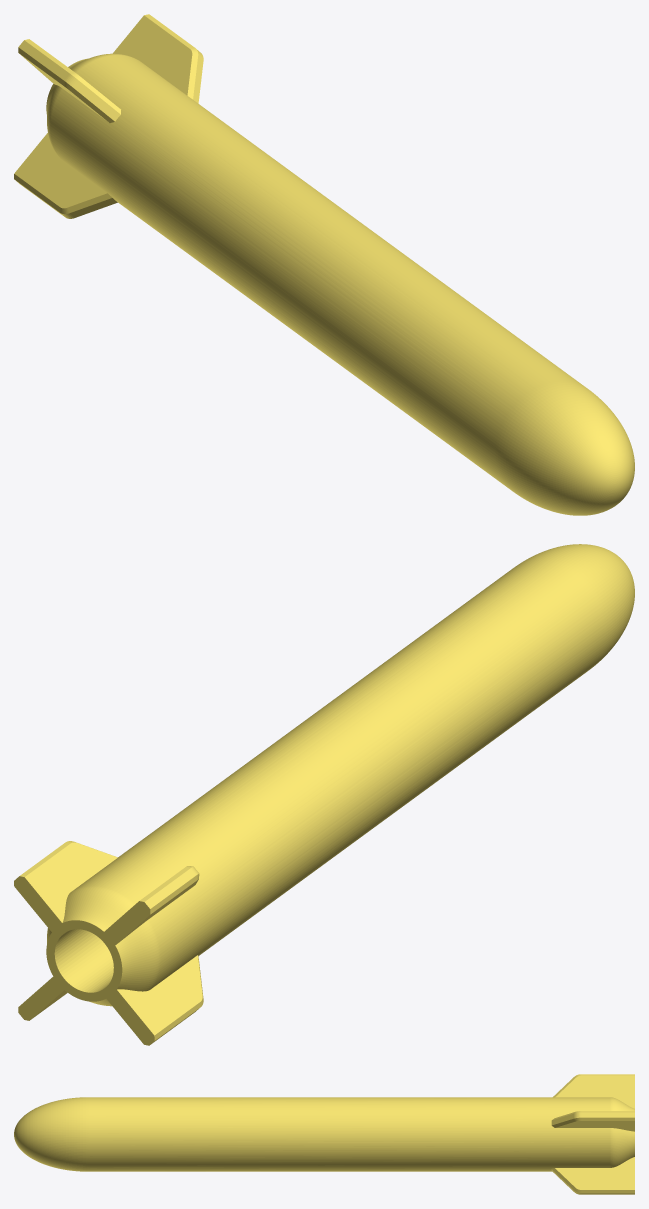
The model's file is torps.glb.
3 renders of one model, top to bottom at view 1: azimuth 30°, elevation 25°; view 2: azimuth 150°, elevation 25°; view 3: azimuth 270°, elevation 25°, orthographic. The views are drawn at different scales.
Parts seen in each view (by area): view 1: tp__Torpedo_D18_L; view 2: tp__Torpedo_D18_L; view 3: tp__Torpedo_D18_L.
Boxes of the visible parts, x1,y1,x2,y2 form: tp__Torpedo_D18_L: (14, 14, 634, 515); tp__Torpedo_D18_L: (14, 544, 634, 1045); tp__Torpedo_D18_L: (14, 1074, 634, 1194).
Bounding box in the file's own units: 22.97 × 22.97 × 150.
